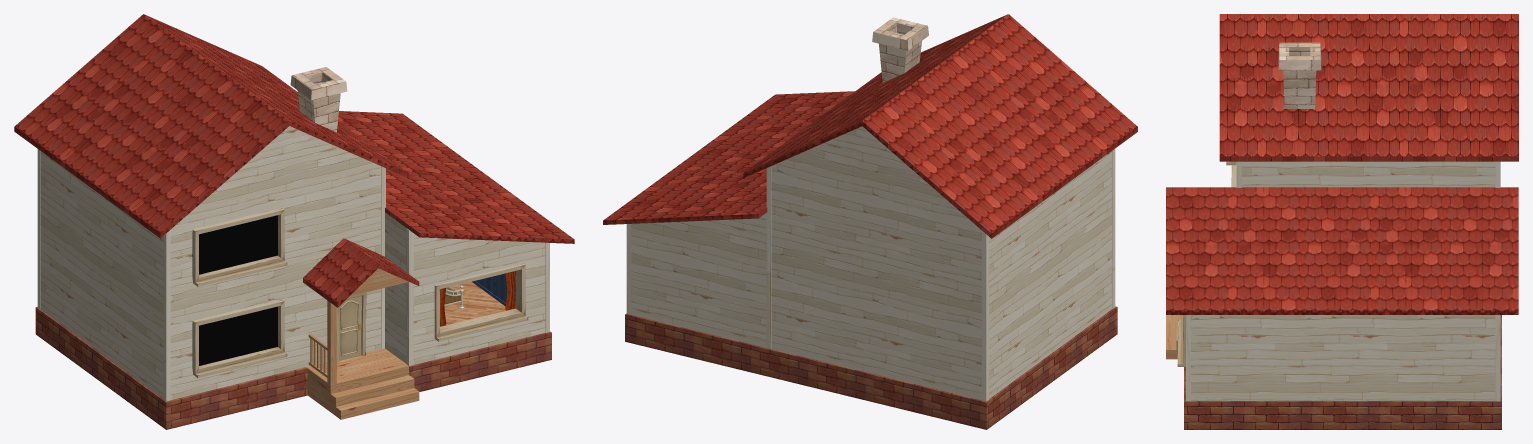
3 renders of one model, left to right at view 1: azimuth 30°, elevation 25°; view 2: azimuth 150°, elevation 25°; view 3: azimuth 270°, elevation 25°, orthographic. The views are drawn at different scales.
Parts seen in each view (by area): view 1: player_house_0, Cube_5, window_7, window.002_9, window.001_8, double_door_r_2, blinds_open_10, door_border_1; view 2: player_house_0; view 3: player_house_0, window_7.
Part boxes in pixels (box(x1,y1,x2,y2)): player_house_0: box(14, 14, 574, 429); Cube_5: box(192, 215, 277, 365); window_7: box(434, 263, 528, 341); window.002_9: box(192, 207, 287, 286); window.001_8: box(192, 299, 287, 377); double_door_r_2: box(338, 296, 361, 360); blinds_open_10: box(440, 271, 516, 326); door_border_1: box(336, 292, 366, 362); player_house_0: box(603, 14, 1137, 429); player_house_0: box(1166, 14, 1518, 429); window_7: box(1177, 315, 1185, 366).
Size of the model in its own units: 35.45 by 24.98 by 27.23.
Materials: 25 (20 with a texture image).
